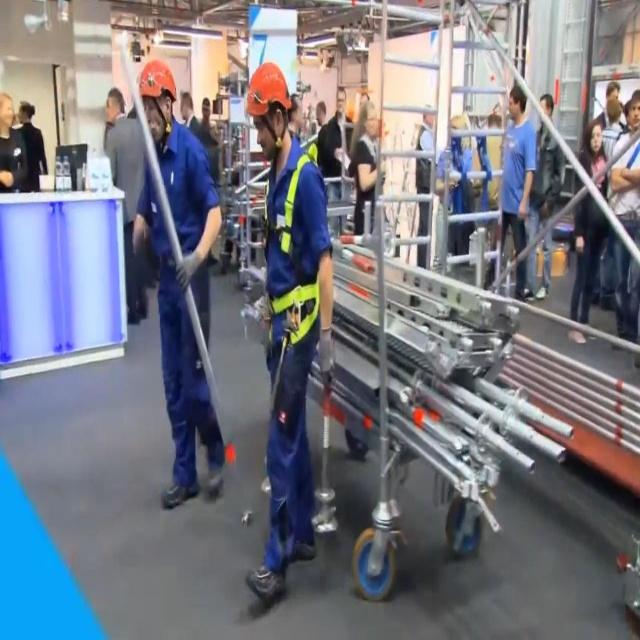Arnes_seguridad: (267, 148, 323, 358)
